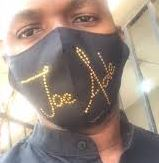with_facemask: (19, 52, 136, 115)
